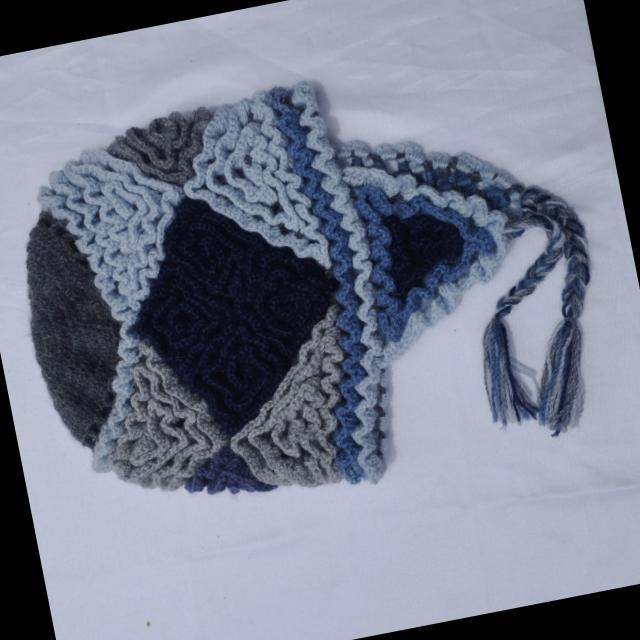Gorro: (0, 33, 626, 544)
